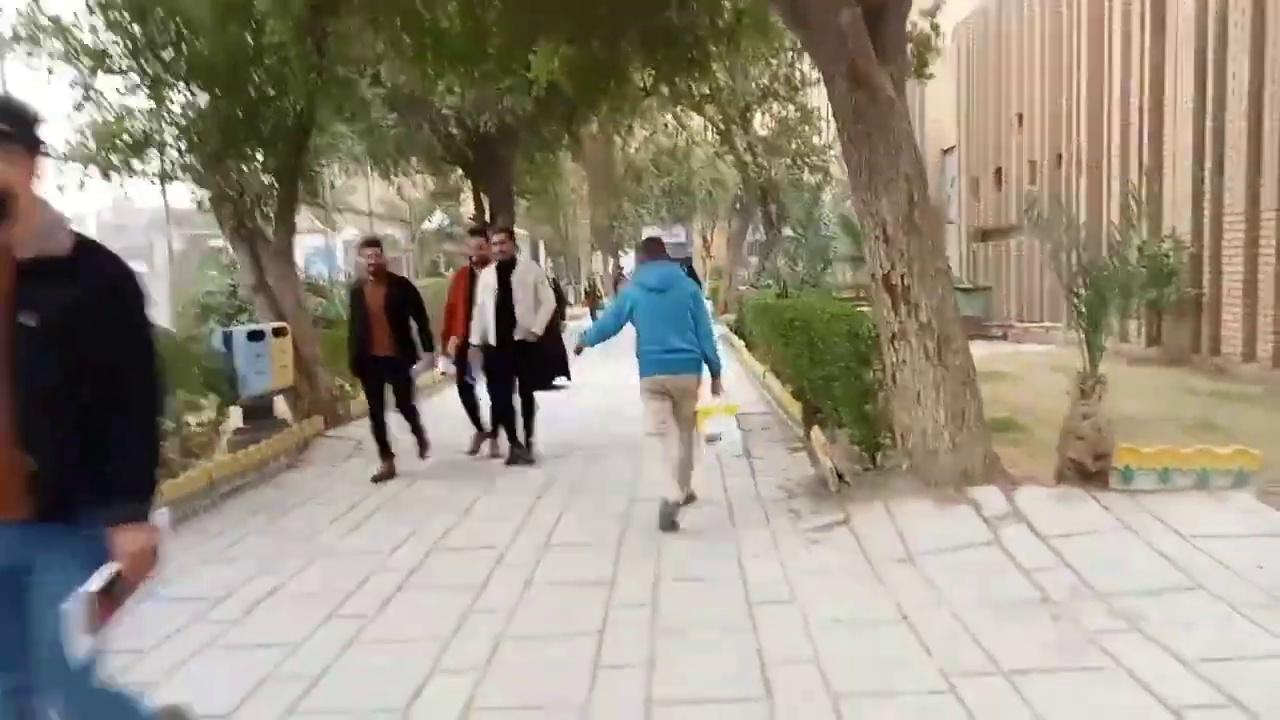person: (0, 93, 175, 719), (572, 235, 724, 531), (346, 236, 436, 482), (467, 225, 556, 465), (439, 225, 498, 456), (538, 256, 571, 390), (679, 256, 702, 290)
tree: (0, 0, 645, 497), (765, 0, 1017, 490), (503, 0, 742, 305), (625, 1, 836, 317), (1012, 174, 1207, 487), (370, 0, 584, 244)
